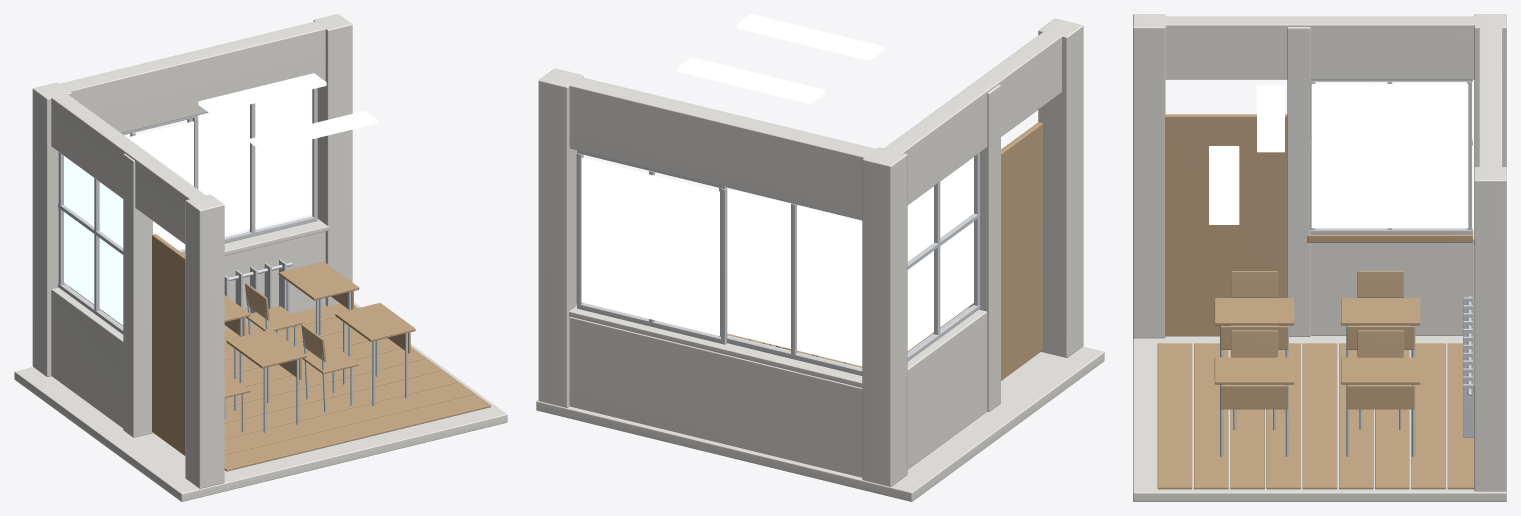
Rendered from korean-highschool-window-corridor-bay-v14.glb.
3 renders of one model, left to right at view 1: azimuth 30°, elevation 25°; view 2: azimuth 150°, elevation 25°; view 3: azimuth 270°, elevation 25°, orthographic. The views are drawn at different scales.
Visible parts, largest first — view 1: SchoolPlasterStructure, SchoolWoodFloorAndDesks, SchoolDaylightGlazing, SchoolAluminumFrames; view 2: SchoolPlasterStructure, SchoolDaylightGlazing, SchoolWoodFloorAndDesks, SchoolAluminumFrames; view 3: SchoolWoodFloorAndDesks, SchoolPlasterStructure, SchoolDaylightGlazing, SchoolAluminumFrames.
Part boxes in pixels (x1=…): SchoolPlasterStructure: x1=14, y1=14, x2=507, y2=501; SchoolWoodFloorAndDesks: x1=68, y1=234, x2=490, y2=471; SchoolDaylightGlazing: x1=64, y1=73, x2=377, y2=325; SchoolAluminumFrames: x1=58, y1=88, x2=407, y2=432; SchoolPlasterStructure: x1=536, y1=18, x2=1104, y2=501; SchoolDaylightGlazing: x1=581, y1=14, x2=973, y2=366; SchoolWoodFloorAndDesks: x1=727, y1=122, x2=1042, y2=380; SchoolAluminumFrames: x1=576, y1=150, x2=980, y2=375; SchoolWoodFloorAndDesks: x1=1157, y1=114, x2=1474, y2=489; SchoolPlasterStructure: x1=1133, y1=14, x2=1506, y2=501; SchoolDaylightGlazing: x1=1209, y1=83, x2=1468, y2=228; SchoolAluminumFrames: x1=1220, y1=79, x2=1474, y2=456.
Size of the model in its own units: 3.6 by 3.03 by 3.2.
